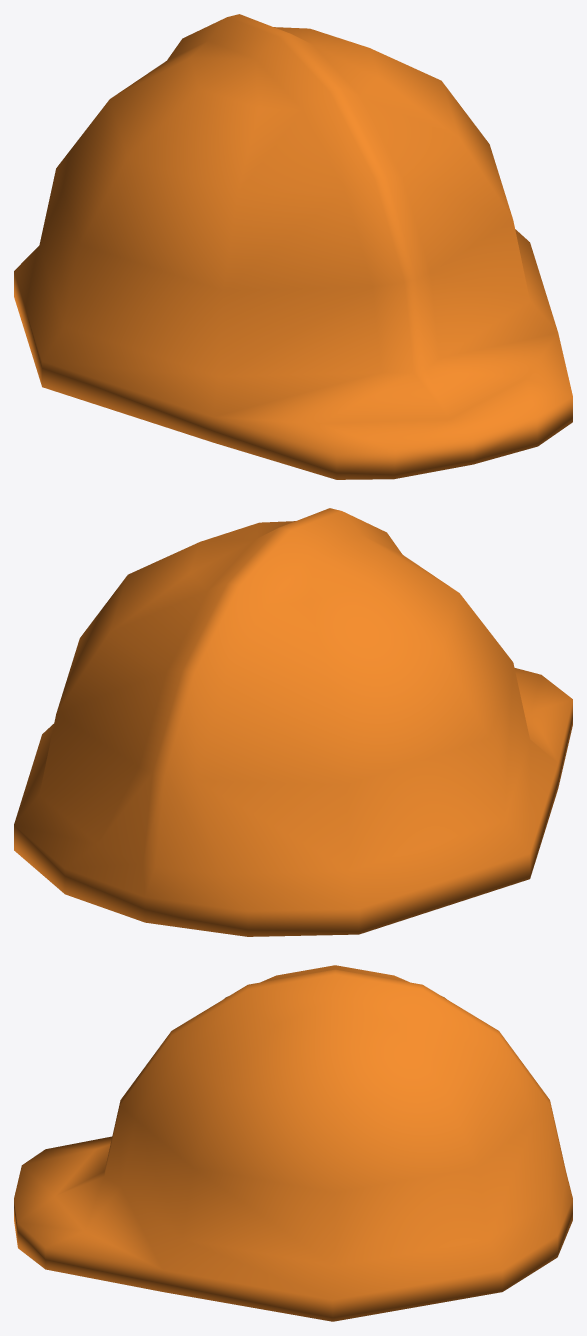
File: ConstructionHat_01.glb
The picture shows the model from 3 angles, top to bottom: view 1: azimuth 30°, elevation 25°; view 2: azimuth 150°, elevation 25°; view 3: azimuth 270°, elevation 25°; orthographic projection. The views are drawn at different scales.
Parts seen in each view (by area): view 1: ConstructionHat_01; view 2: ConstructionHat_01; view 3: ConstructionHat_01.
Part boxes in pixels (<box>): ConstructionHat_01: <box>14,14,572,479</box>; ConstructionHat_01: <box>14,508,572,936</box>; ConstructionHat_01: <box>14,965,572,1321</box>.
Size of what is drawn, in the model's own units: 0.4055 by 0.233 by 0.472.
1 material, 1 textured.
